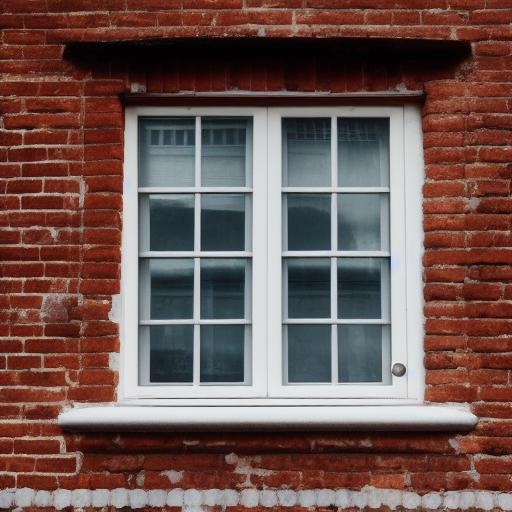Window: (59, 41, 481, 429)
